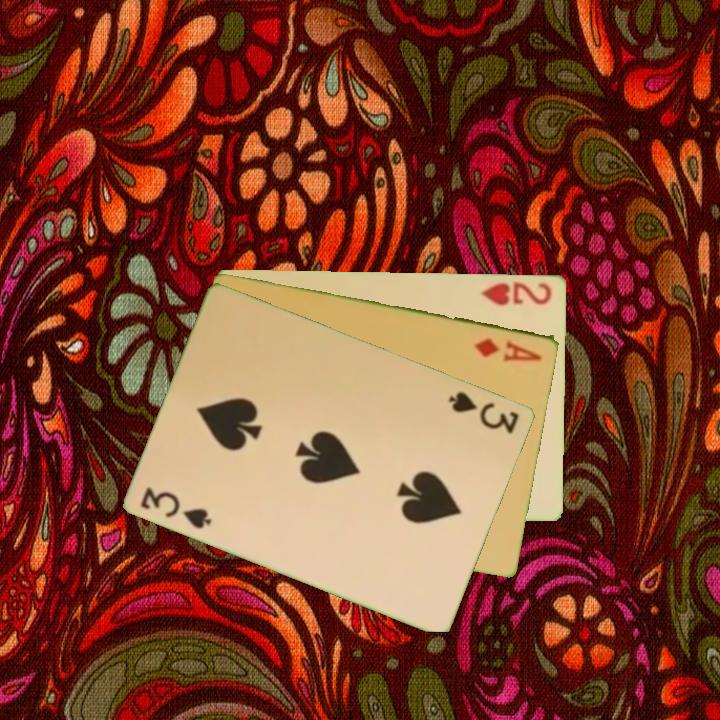2h: (479, 278, 555, 308)
3s: (137, 483, 216, 532), (445, 387, 523, 436)
Ad: (471, 334, 545, 364)
